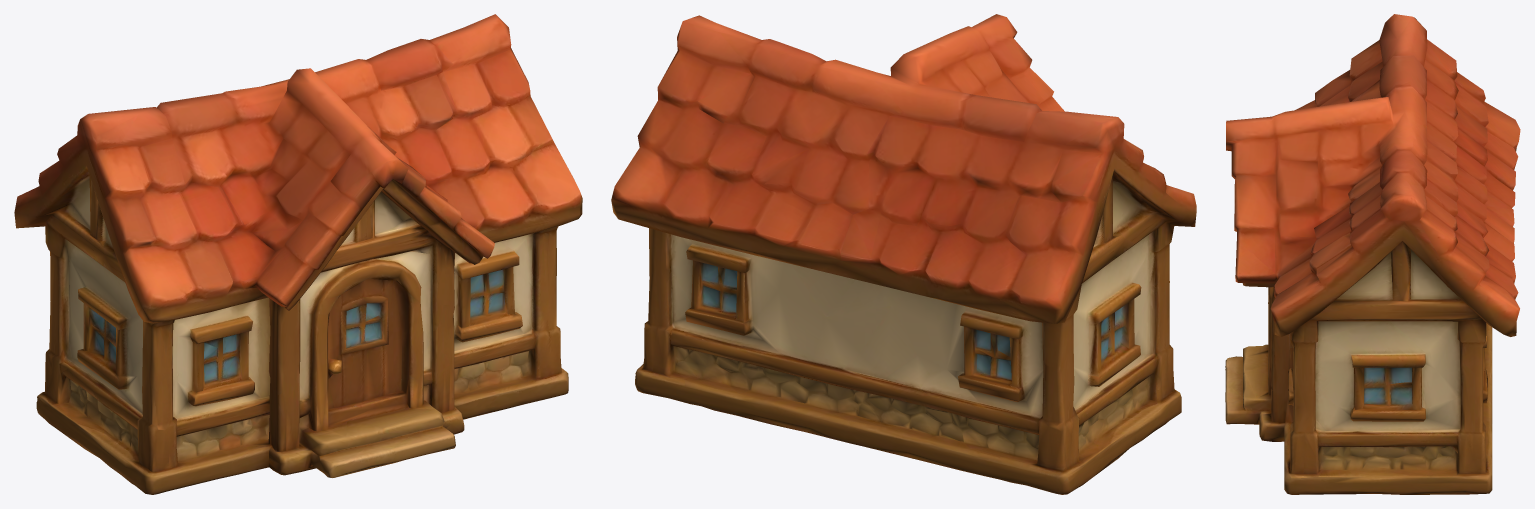
File: house.glb
The picture shows the model from 3 angles, left to right: view 1: azimuth 30°, elevation 25°; view 2: azimuth 150°, elevation 25°; view 3: azimuth 270°, elevation 25°; orthographic projection. The views are drawn at different scales.
Visible parts, largest first — view 1: tripo_node_2d023e64-0003-4b00-a3c8-6246b847d11a; view 2: tripo_node_2d023e64-0003-4b00-a3c8-6246b847d11a; view 3: tripo_node_2d023e64-0003-4b00-a3c8-6246b847d11a.
Part boxes in pixels (<box>): tripo_node_2d023e64-0003-4b00-a3c8-6246b847d11a: <box>14,14,582,494</box>; tripo_node_2d023e64-0003-4b00-a3c8-6246b847d11a: <box>611,14,1196,494</box>; tripo_node_2d023e64-0003-4b00-a3c8-6246b847d11a: <box>1225,14,1520,494</box>.
Bounding box in the file's own units: 0.9794 × 0.713 × 0.6296.
1 material, 1 textured.
